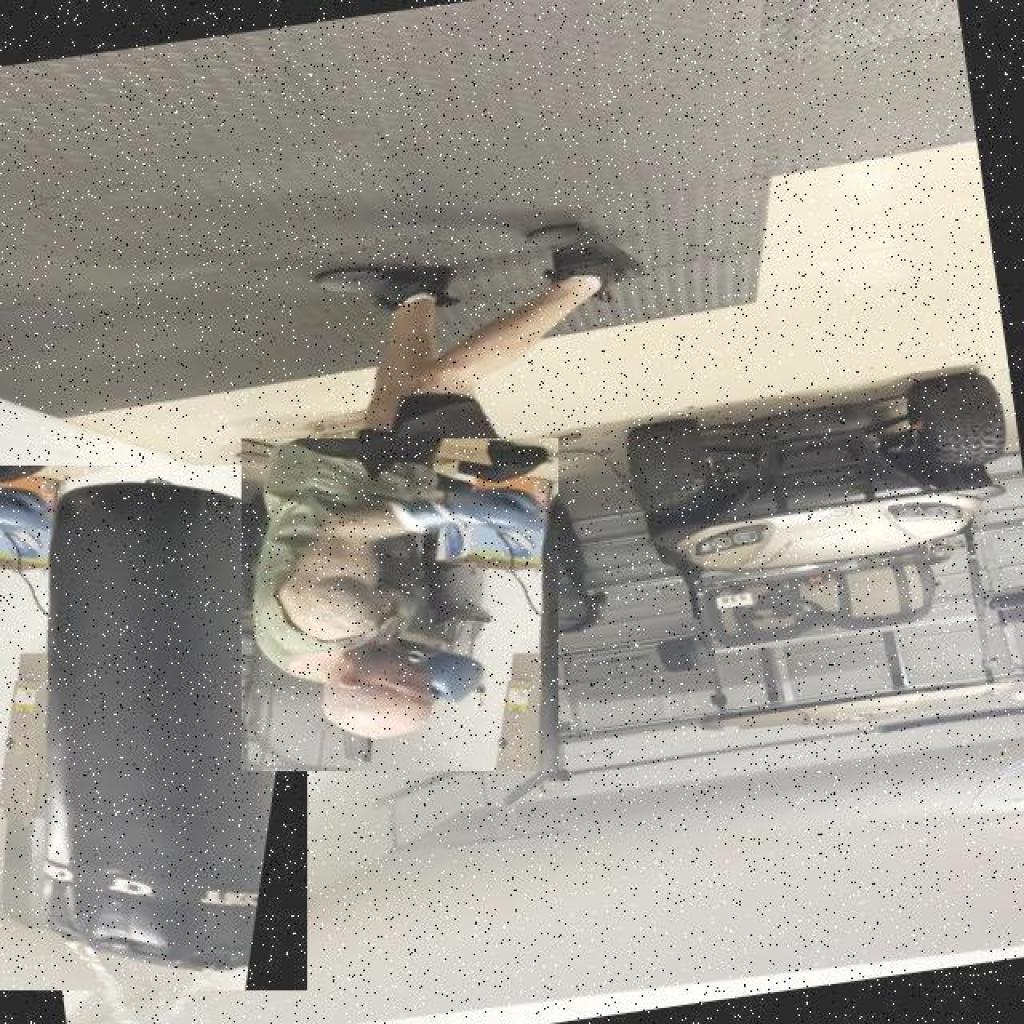bag: (0, 465, 306, 990)
uppercut: (242, 438, 558, 772)
